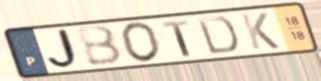B: (73, 24, 126, 68)
D: (194, 15, 241, 57)
J: (45, 26, 85, 71)
K: (238, 11, 282, 51)
O: (119, 20, 163, 63)
T: (160, 19, 193, 58)
